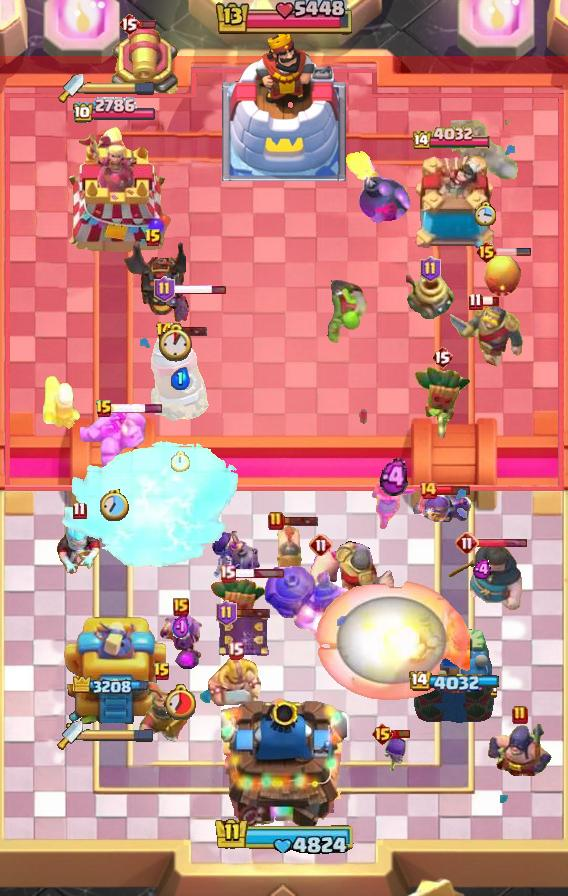bar: (172, 283, 227, 296), (111, 403, 164, 414), (233, 568, 285, 579), (476, 538, 528, 549), (234, 607, 271, 619), (282, 515, 319, 527), (171, 325, 208, 337), (436, 484, 471, 496), (496, 247, 532, 257), (480, 295, 500, 307), (391, 728, 411, 739), (138, 19, 157, 30)
bar-level: (309, 533, 333, 557), (455, 531, 479, 555), (371, 722, 394, 746), (475, 240, 498, 264), (216, 600, 237, 626), (154, 276, 175, 302), (420, 256, 441, 282), (431, 345, 453, 369), (118, 12, 140, 36), (418, 480, 438, 500), (155, 321, 174, 341), (153, 662, 171, 682), (95, 399, 113, 419), (144, 228, 162, 248), (227, 641, 244, 660), (219, 564, 236, 583), (512, 705, 528, 725), (268, 511, 284, 531), (173, 598, 189, 616), (72, 501, 87, 520), (468, 292, 483, 311)
bat: (162, 288, 190, 322)
bomb: (340, 149, 412, 223)
bomber-evolution: (210, 530, 264, 580)
clock: (157, 323, 195, 362), (163, 683, 199, 720), (100, 489, 129, 521), (474, 201, 497, 226), (171, 451, 190, 472)
dagger-duchess-tower: (55, 126, 173, 256), (62, 611, 166, 731)
dagger-duchess-tower-bar: (83, 728, 155, 742), (84, 81, 156, 95)
dart-goblin: (412, 366, 472, 442), (207, 574, 267, 642)
dirt: (451, 120, 520, 183)
elite-barbarian: (206, 655, 264, 707)
elixir: (380, 458, 408, 497), (172, 614, 190, 641), (170, 367, 190, 390), (473, 560, 493, 579)
executioner: (487, 722, 553, 780)
firecracker: (41, 373, 83, 431)
goblin-ball: (319, 280, 369, 346)
golemite: (80, 408, 148, 480)
hog: (300, 547, 342, 599)
ice-wizard: (55, 510, 103, 576)
king-tower: (222, 31, 346, 181), (221, 690, 347, 826)
king-tower-bar: (210, 816, 358, 858), (213, 0, 355, 38)
knight: (450, 304, 524, 367), (334, 540, 395, 602)
knight-evolution: (411, 491, 473, 525)
mother-witch: (158, 613, 204, 675)
phoenix-egg: (482, 254, 522, 298)
queen-tower: (409, 616, 497, 731), (407, 156, 499, 256)
royal-hog: (273, 525, 305, 579)
royal-recruit: (137, 681, 187, 747)
skeleton-evolution: (381, 734, 411, 774)
tower-bar: (72, 97, 157, 125), (407, 671, 499, 694), (413, 126, 493, 152), (73, 676, 155, 698)
valkyrie: (370, 477, 418, 531)
zappy: (406, 271, 454, 319)
